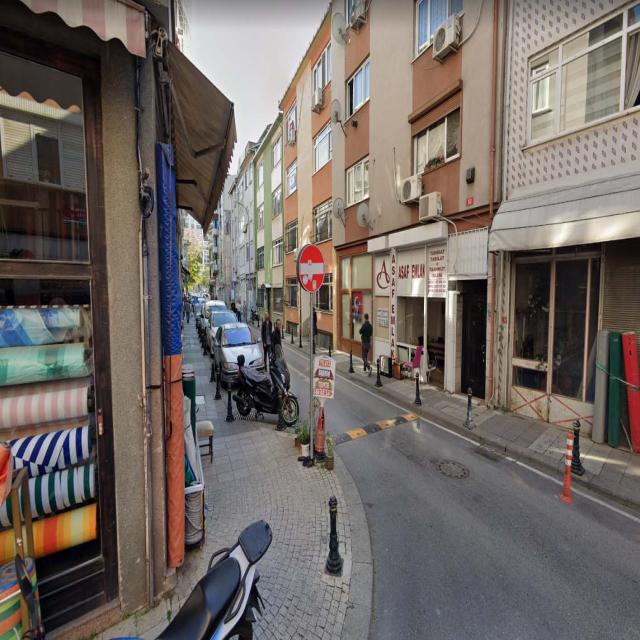girisyok: (298, 244, 324, 292)
